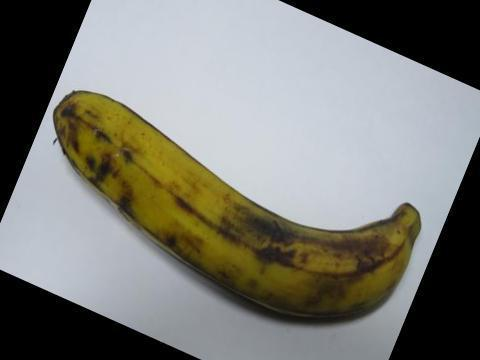overripe: (38, 70, 438, 337)
